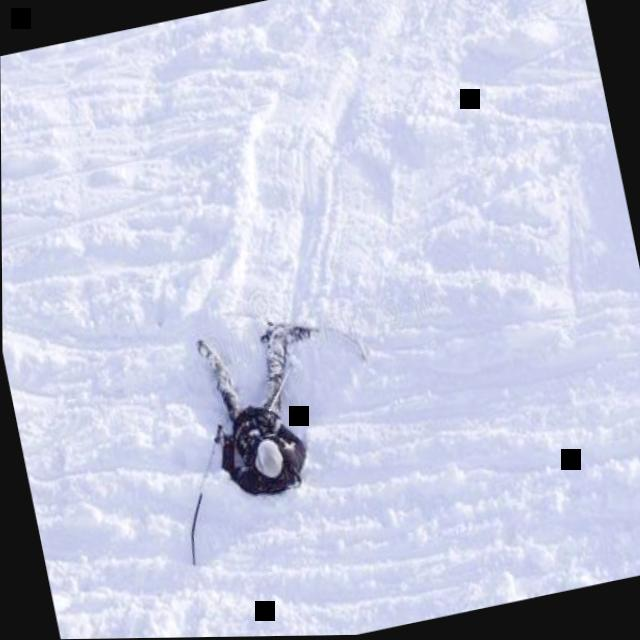Fall-Detected: (155, 282, 373, 522)
